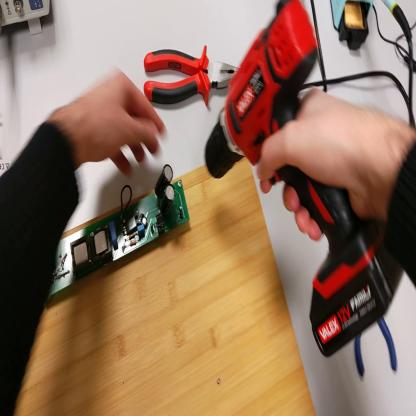electric screwdriver: (205, 4, 404, 372)
hand: (259, 87, 399, 239), (68, 71, 167, 177)
high voltage board: (51, 167, 192, 292)
oscilloscope: (2, 2, 52, 39)
pliers: (144, 45, 240, 109), (354, 318, 399, 377)
welder base: (331, 2, 375, 47)
welder probe tip: (384, 3, 414, 44)
working area: (24, 159, 317, 416)
